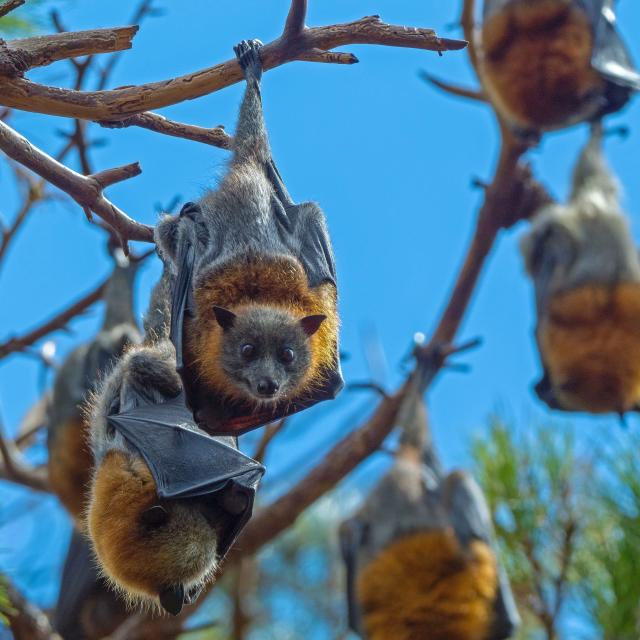bat: (155, 41, 345, 437), (86, 270, 264, 615)
